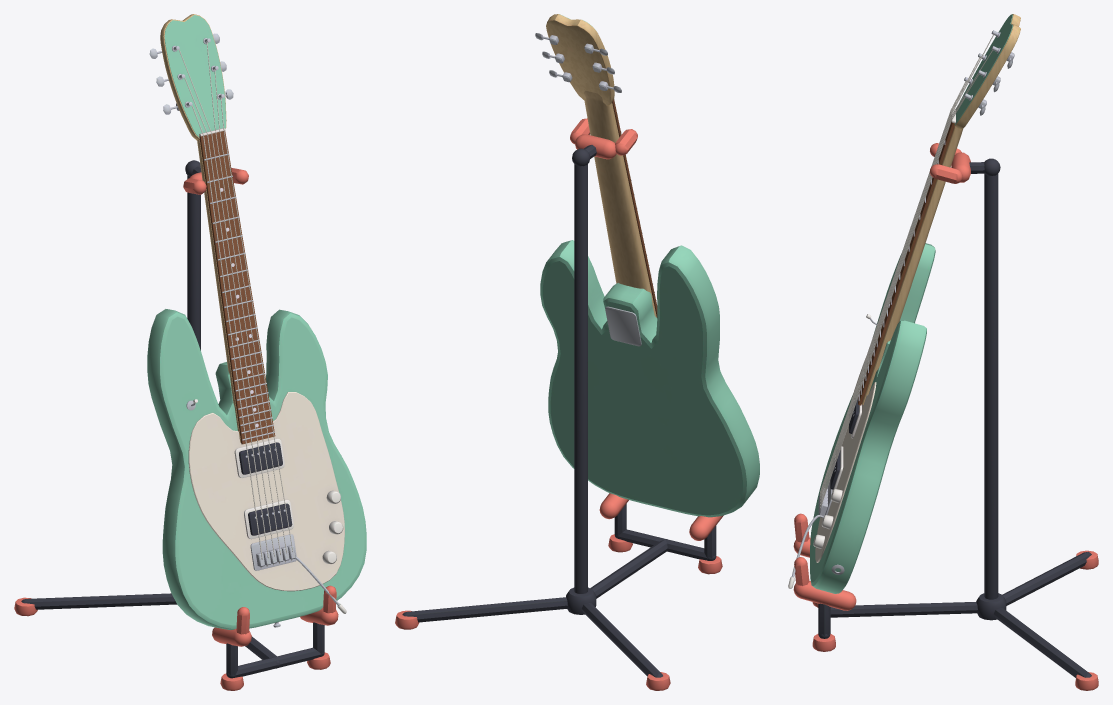
File: electric-guitar.glb
The picture shows the model from 3 angles, left to right: view 1: azimuth 30°, elevation 25°; view 2: azimuth 150°, elevation 25°; view 3: azimuth 270°, elevation 25°; orthographic projection. The views are drawn at different scales.
Visible parts, largest first — view 1: electric-guitar_body, electric-guitar_stand, electric-guitar_strings; view 2: electric-guitar_body, electric-guitar_stand; view 3: electric-guitar_body, electric-guitar_stand, electric-guitar_strings.
Part boxes in pixels (left/top/right/bottom): electric-guitar_body: left=147, top=14, right=366, bottom=629; electric-guitar_stand: left=14, top=160, right=338, bottom=690; electric-guitar_strings: left=179, top=41, right=292, bottom=568; electric-guitar_body: left=535, top=14, right=759, bottom=517; electric-guitar_stand: left=395, top=118, right=723, bottom=690; electric-guitar_body: left=788, top=14, right=1020, bottom=593; electric-guitar_stand: left=793, top=143, right=1098, bottom=690; electric-guitar_strings: left=820, top=34, right=994, bottom=518.
Bounding box in the file's own units: 0.456 × 0.9785 × 0.4543.
Materials: 3 (2 with a texture image).
